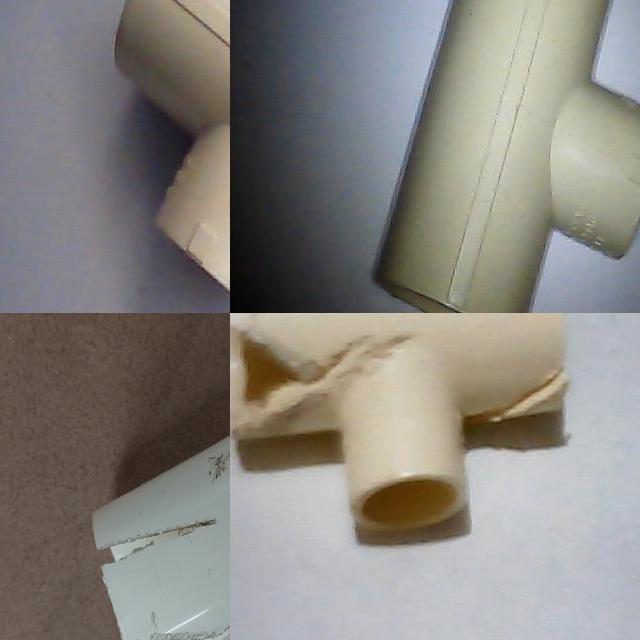Defective: (230, 313, 394, 449), (474, 362, 586, 440), (66, 333, 113, 468)
T Joint: (370, 0, 640, 313), (230, 313, 570, 530), (24, 320, 230, 640)
